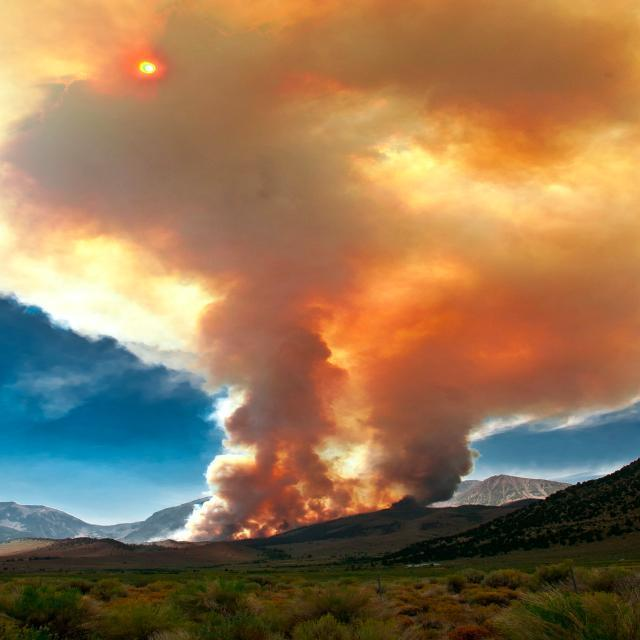Smoke: (73, 0, 640, 540)
